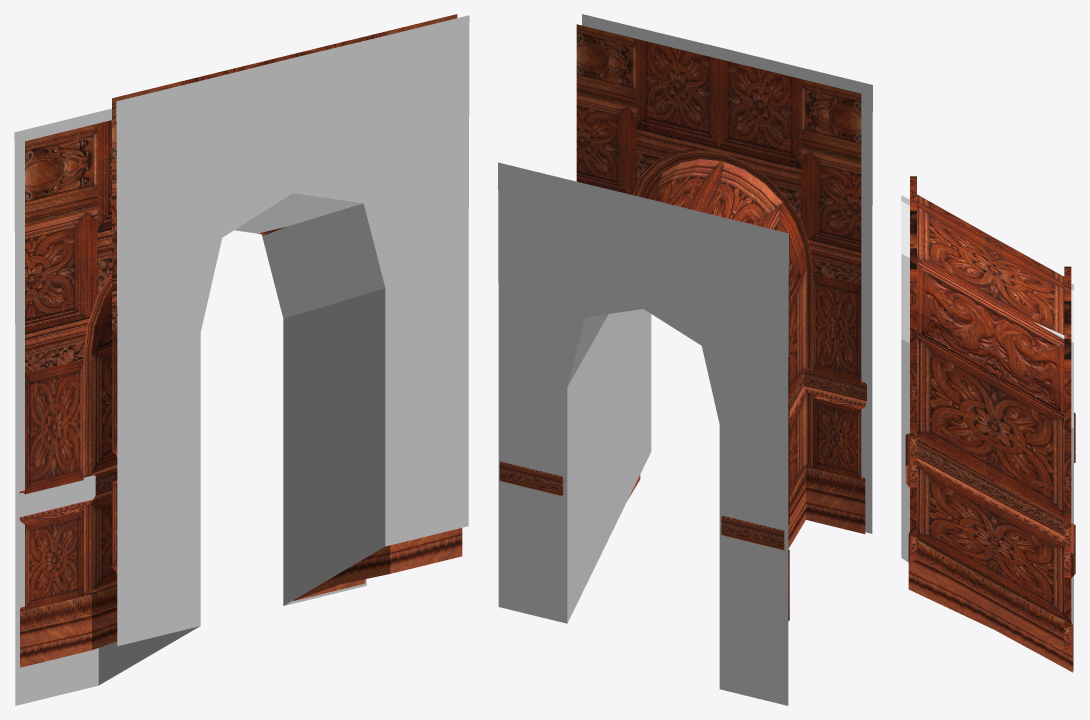
File: Arch1Sloped.fbx
3 renders of one model, left to right at view 1: azimuth 30°, elevation 25°; view 2: azimuth 150°, elevation 25°; view 3: azimuth 270°, elevation 25°, orthographic. The views are drawn at different scales.
Parts seen in each view (by area): view 1: ArchCollMesh, Arch; view 2: ArchCollMesh, Arch; view 3: Arch, ArchCollMesh.
Part boxes in pixels (x1=…): ArchCollMesh: x1=14, y1=15, x2=469, y2=705; Arch: x1=19, y1=14, x2=462, y2=667; ArchCollMesh: x1=498, y1=14, x2=872, y2=705; Arch: x1=499, y1=24, x2=866, y2=621; Arch: x1=905, y1=176, x2=1075, y2=672; ArchCollMesh: x1=901, y1=195, x2=1073, y2=671.
Size of the model in its own units: 329 by 605 by 166.
